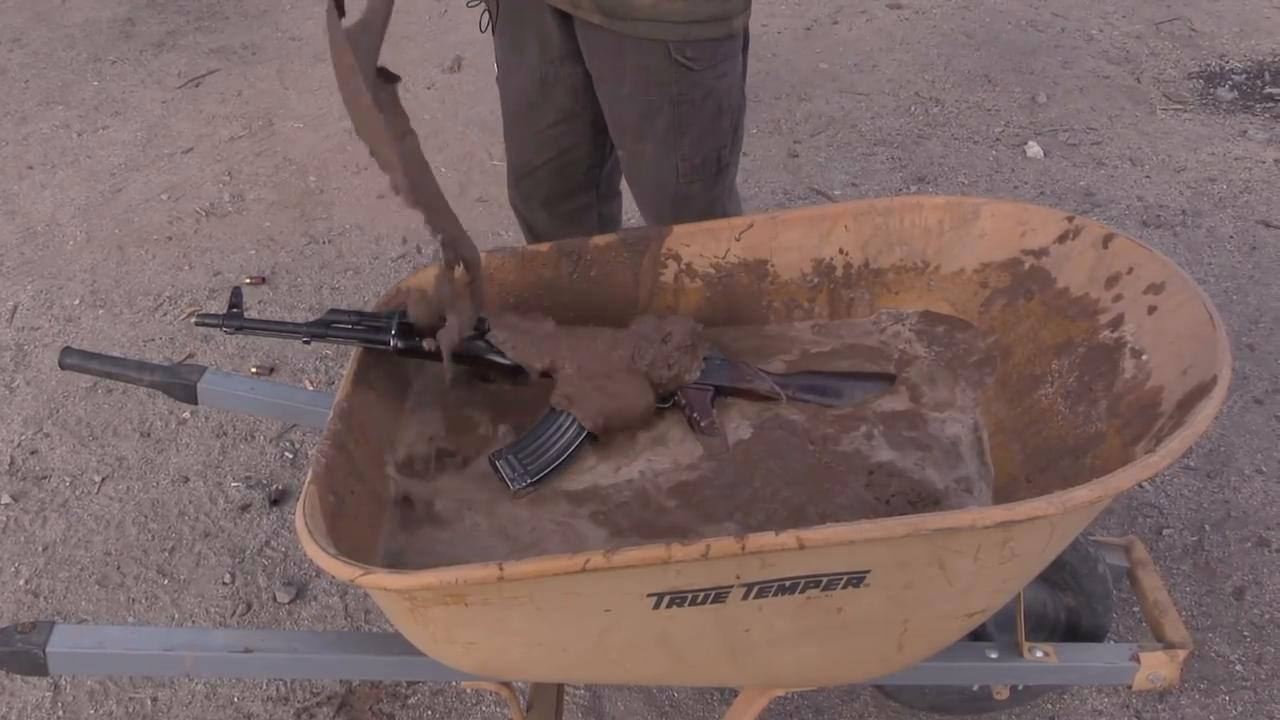AK47 Rifle: (192, 283, 901, 487)
